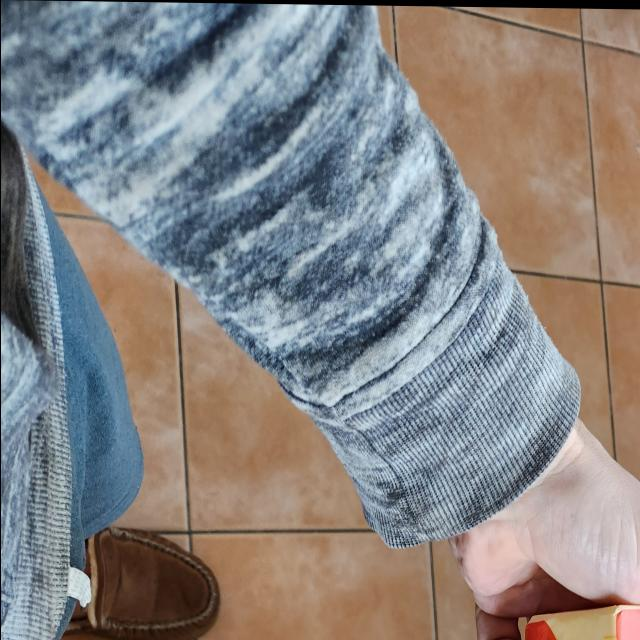butter: (522, 601, 640, 640)
